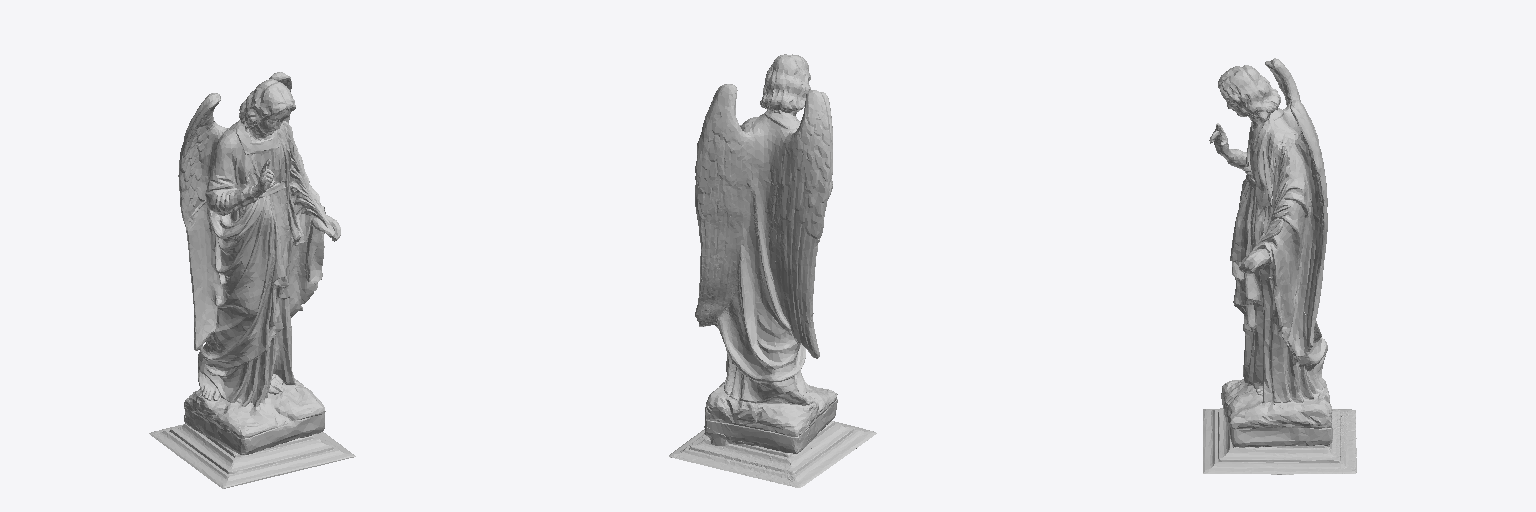
Rendered from angelLR.obj.
3 views of the same model, side by side, from view 1: azimuth 30°, elevation 25°; view 2: azimuth 150°, elevation 25°; view 3: azimuth 270°, elevation 25° (orthographic).
Visible parts, largest first — view 1: angel2_Model_6; view 2: angel2_Model_6; view 3: angel2_Model_6.
Boxes of the visible parts, x1=… form: angel2_Model_6: x1=149, y1=72, x2=355, y2=488; angel2_Model_6: x1=669, y1=54, x2=876, y2=487; angel2_Model_6: x1=1203, y1=58, x2=1356, y2=474.
Bounding box in the file's own units: 11.97 × 30.15 × 11.18.